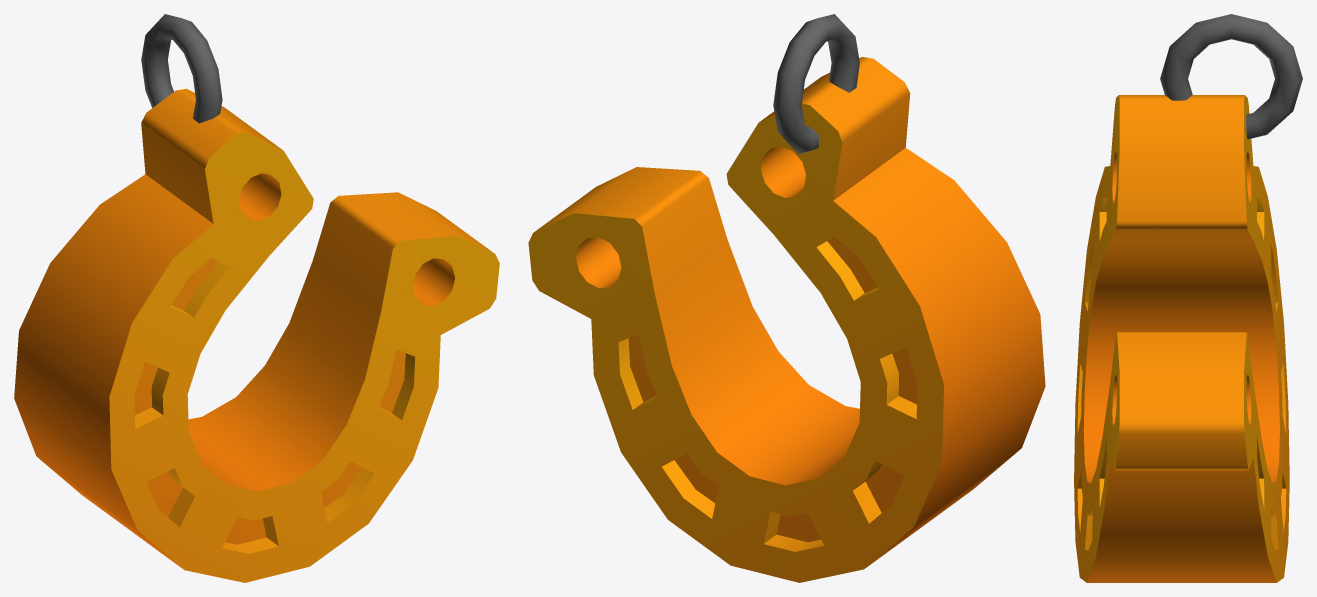
File: Charm_08.fbx
The picture shows the model from 3 angles, left to right: view 1: azimuth 30°, elevation 25°; view 2: azimuth 150°, elevation 25°; view 3: azimuth 270°, elevation 25°; orthographic projection. The views are drawn at different scales.
Parts seen in each view (by area): view 1: Charm_08; view 2: Charm_08; view 3: Charm_08.
Part boxes in pixels (x1,y1,x2,y2): Charm_08: (14, 14, 499, 582); Charm_08: (528, 14, 1045, 582); Charm_08: (1074, 14, 1302, 582).
Bounding box in the file's own units: 4.36 × 5.21 × 2.02.
